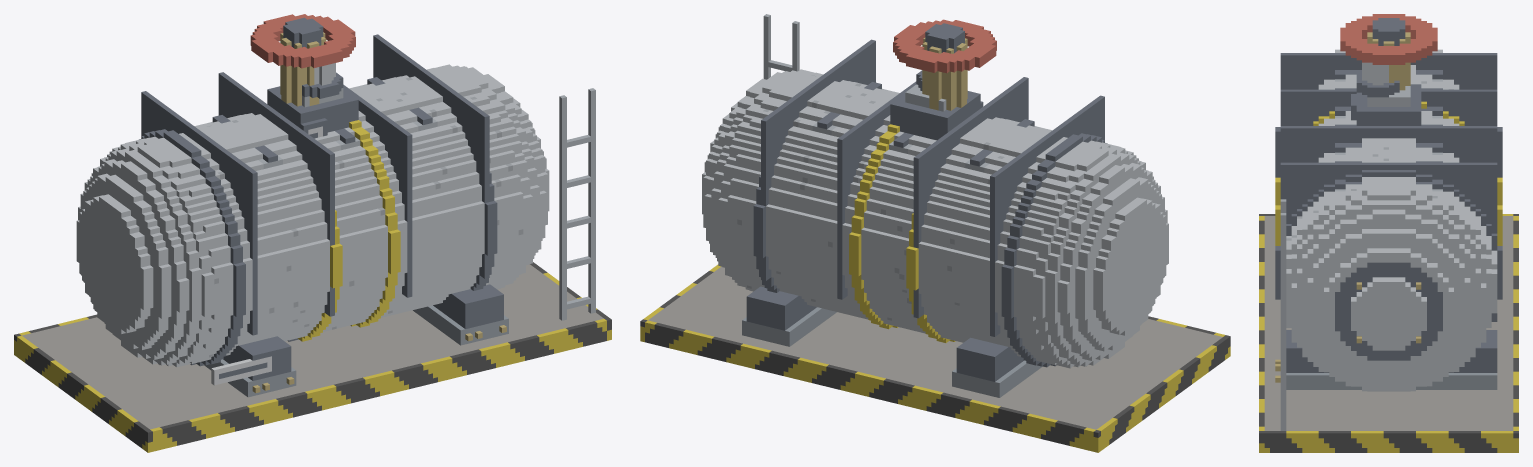
File: gas_tank.glb
The picture shows the model from 3 angles, left to right: view 1: azimuth 30°, elevation 25°; view 2: azimuth 150°, elevation 25°; view 3: azimuth 270°, elevation 25°; orthographic projection. The views are drawn at different scales.
Parts seen in each view (by area): view 1: gas_tank; view 2: gas_tank; view 3: gas_tank.
Part boxes in pixels (left/top/right/bottom): gas_tank: left=14, top=14, right=611, bottom=452; gas_tank: left=640, top=14, right=1230, bottom=452; gas_tank: left=1259, top=14, right=1518, bottom=452.
Size of the model in its own units: 3 by 2 by 1.5.
